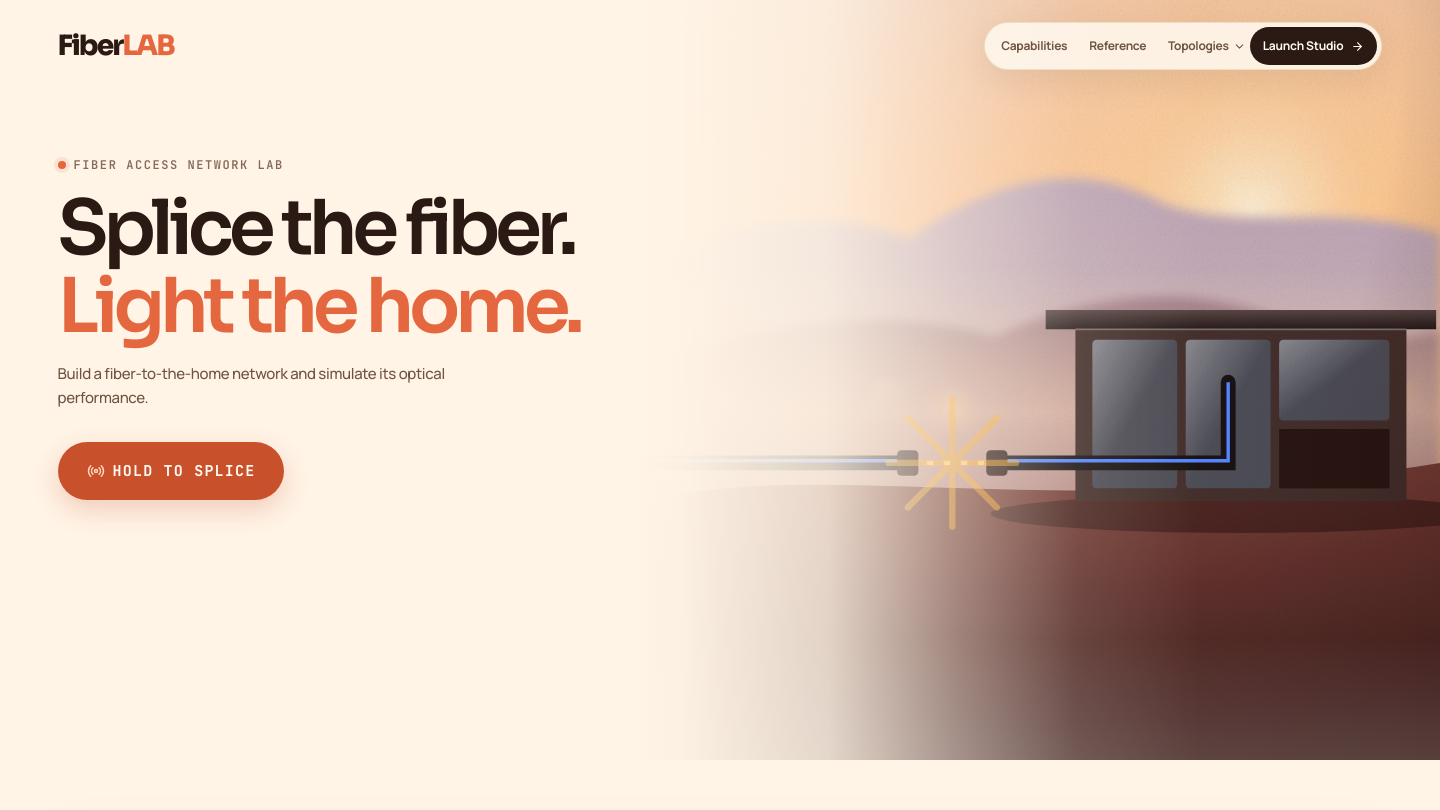
it: FiberLAB application shell › introduces the lab in one screen and earns the studio door by splicing
The image size is (1440, 810).
expect the heading "Splice the fiber.Light the home." is shown: met, box [58,190,580,346]
expect the text "Build a fiber-to-the-home network and simulate its optical performance." is shown: met, box [58,362,488,410]
Press Space in the button with aria-label "Press and hold to splice the fiber", box [58,442,284,500]
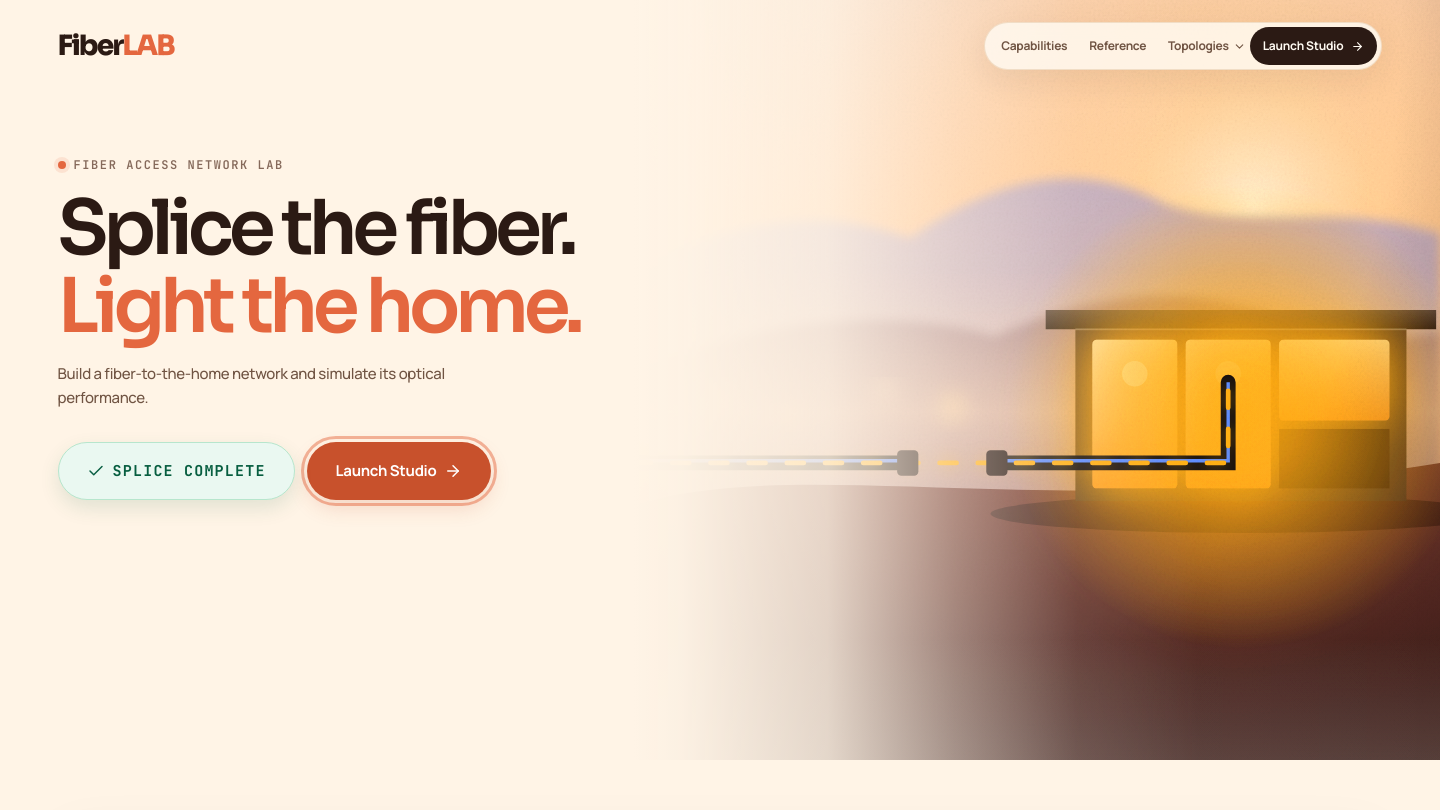
expect the text "SPLICE COMPLETE" is shown: met, box [87,460,266,482]
Click the button "Launch Studio" next to "SPLICE COMPLETE".
click(399, 471)  # box [307,442,492,500]
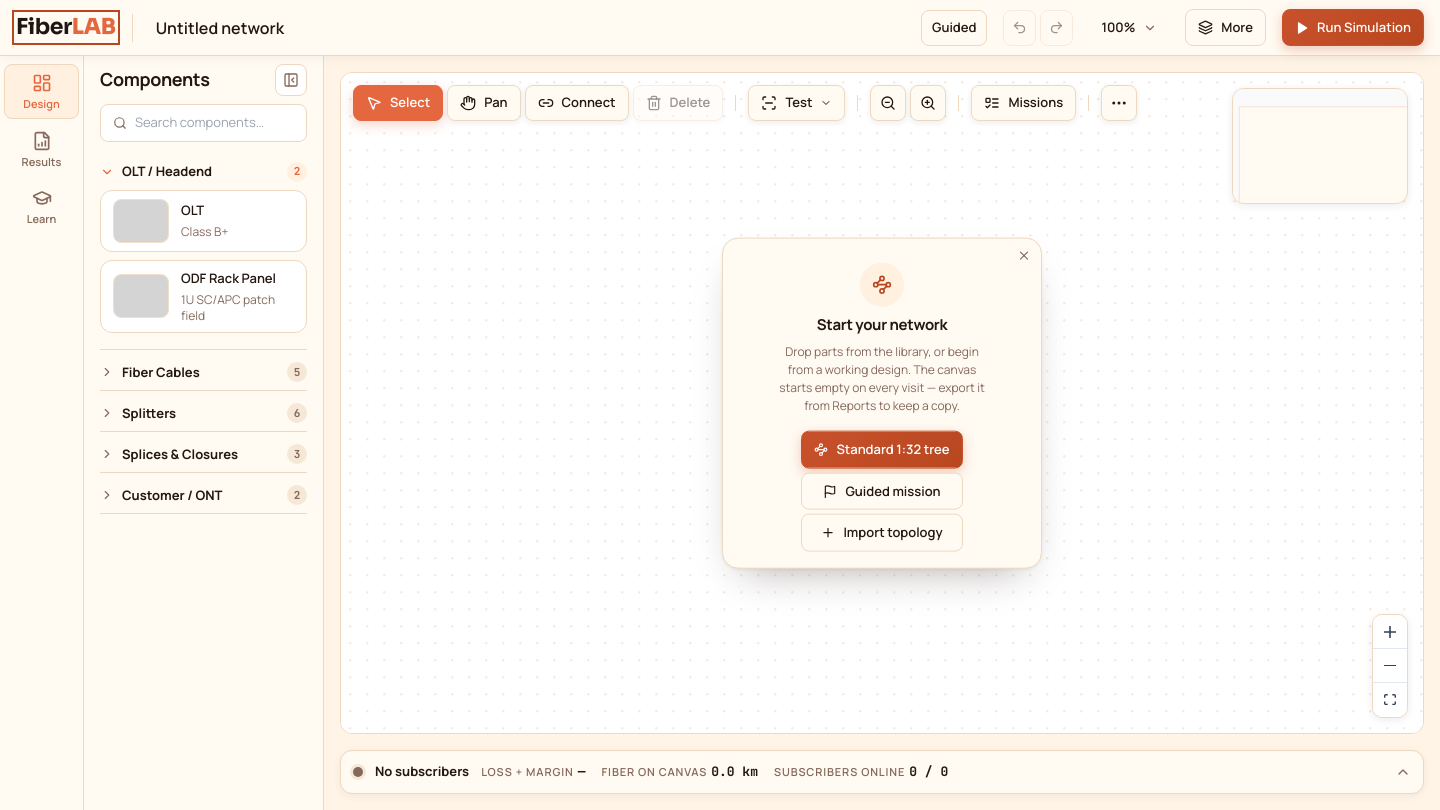
expect the button "Run Simulation" is shown: met, box [1282,9,1424,46]
expect the heading "Splice the fiber" is gone: met
expect the button "Missions" is shown: met, box [971,85,1076,121]
Click the button named "More tools".
click(1119, 103)  # box [1101,85,1137,121]
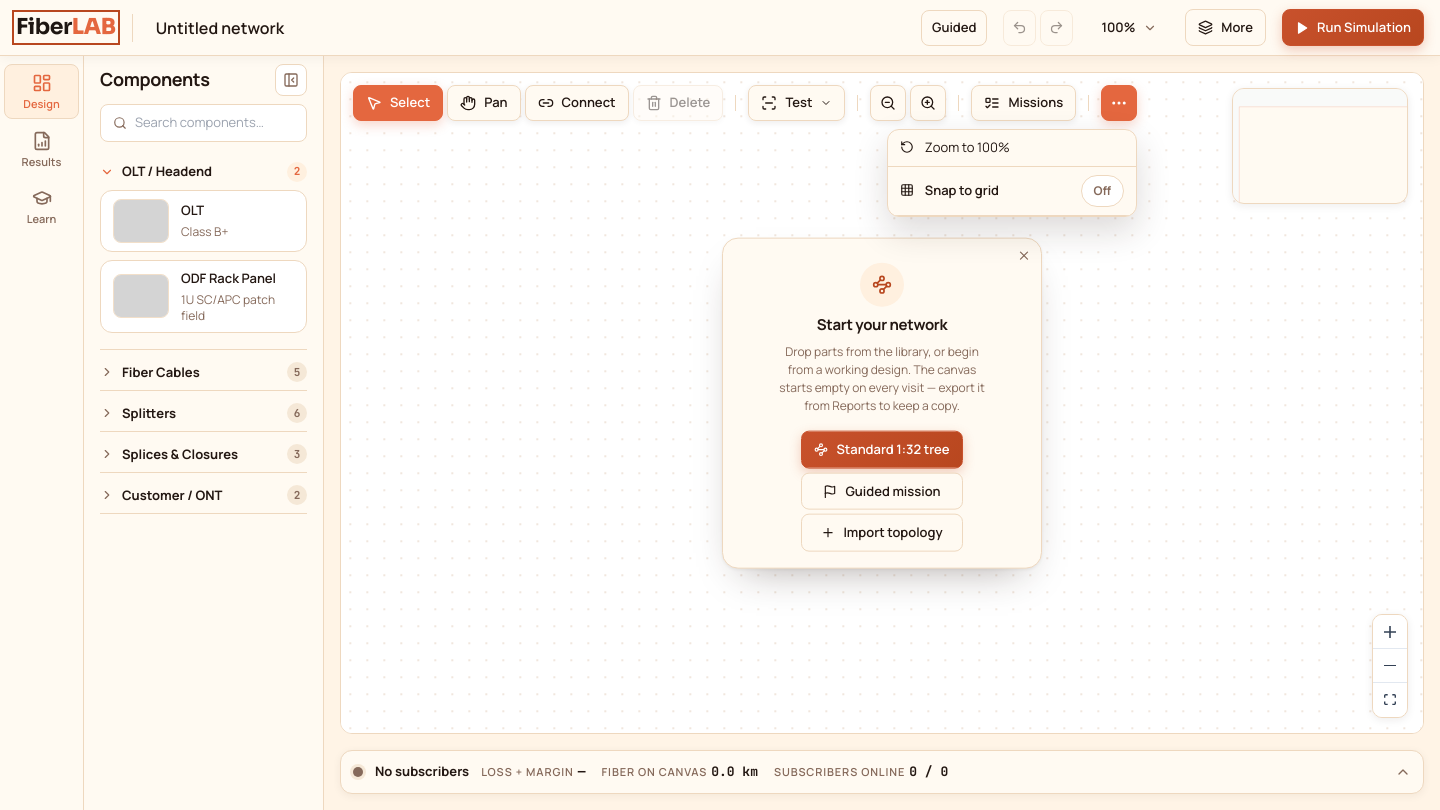
expect the button "Zoom to 100%" is shown: met, box [888,130,1136,166]
